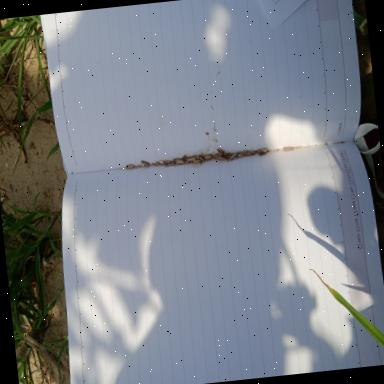pbw: (141, 160, 151, 167), (202, 154, 213, 160), (198, 156, 208, 162), (192, 159, 202, 165), (186, 156, 196, 162), (174, 158, 184, 164), (125, 164, 135, 170), (192, 155, 202, 160), (164, 162, 172, 168), (225, 154, 231, 160)
